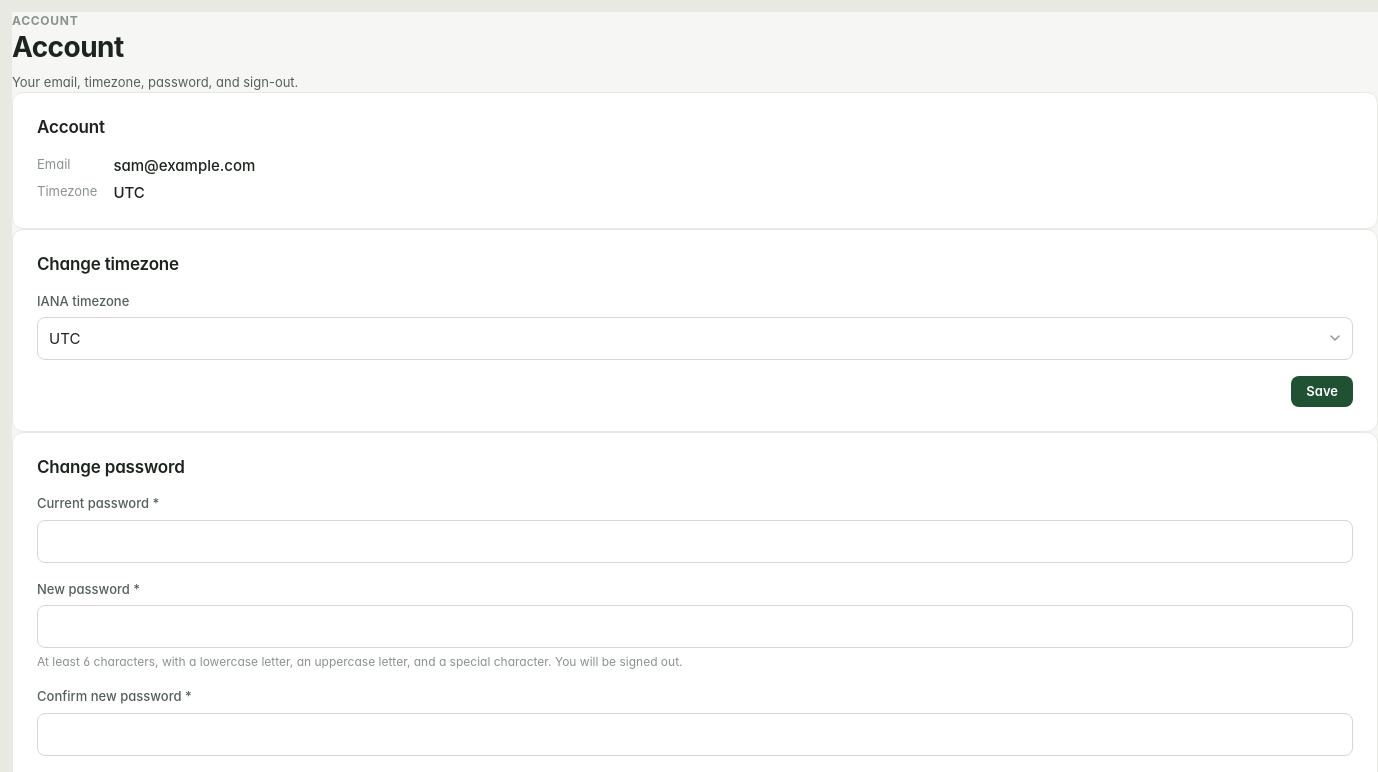
Test: Account › saves the timezone from the IANA select
Select "UTC" in the dropdown labelled "IANA timezone" at (695, 338), box [37,317,1353,360]
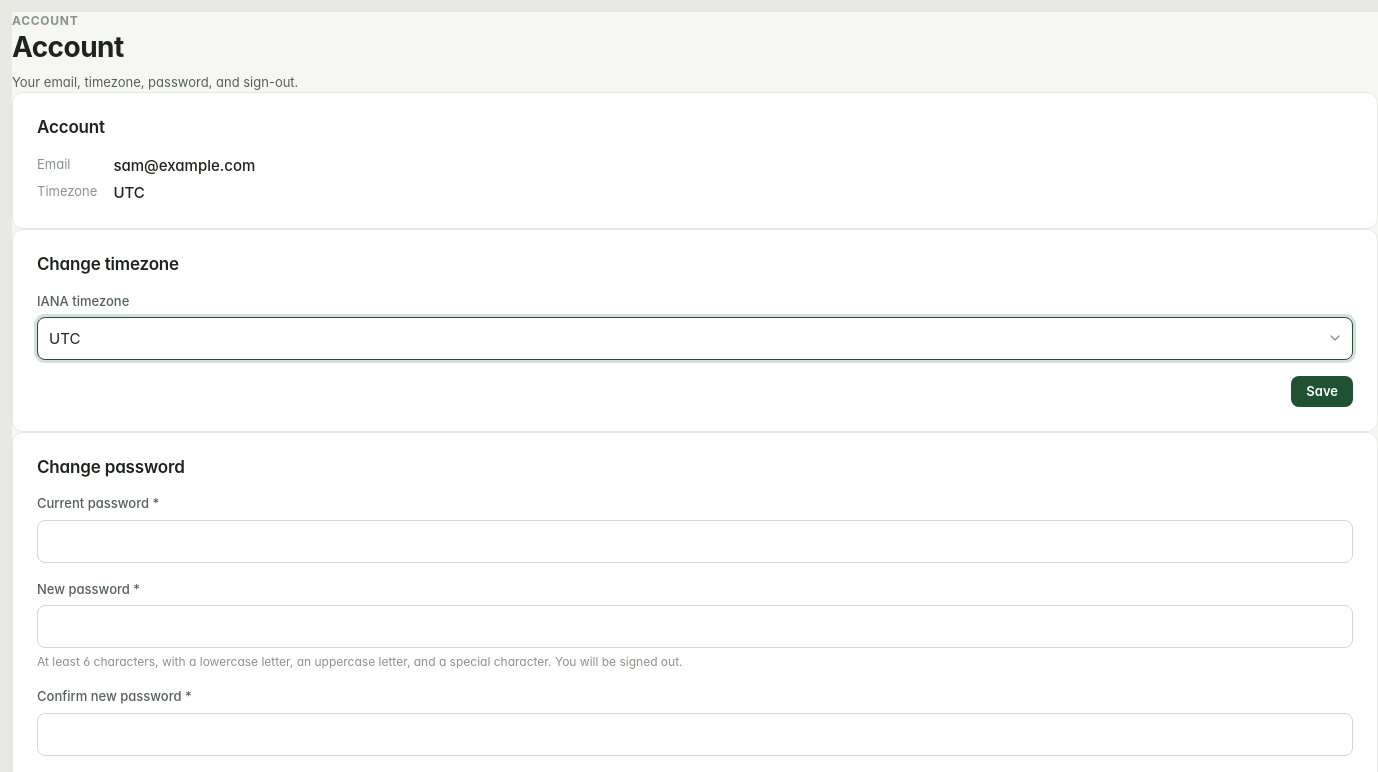
Click the button "Save" at (1322, 392), box [1291,376,1353,407]
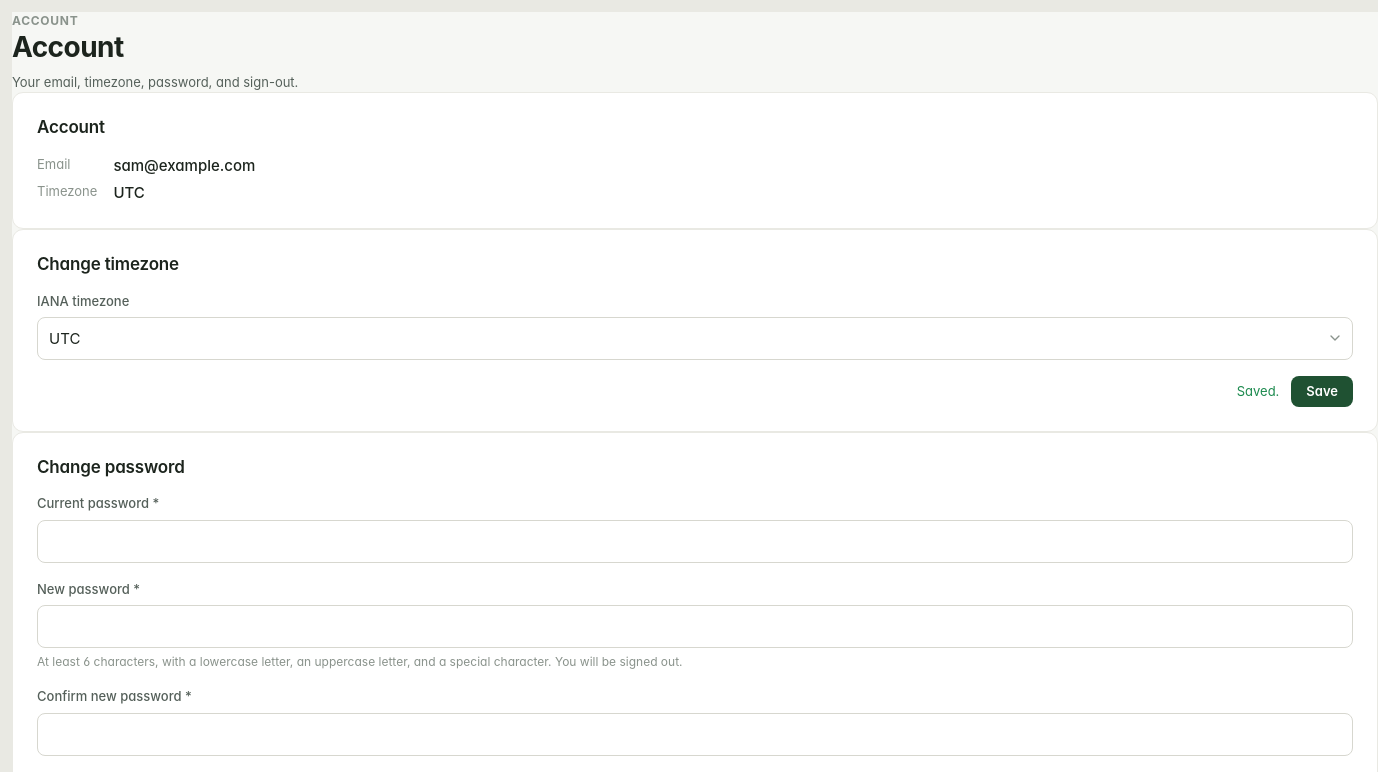
Now the text "Saved." is shown, box [1237,381,1279,402]
